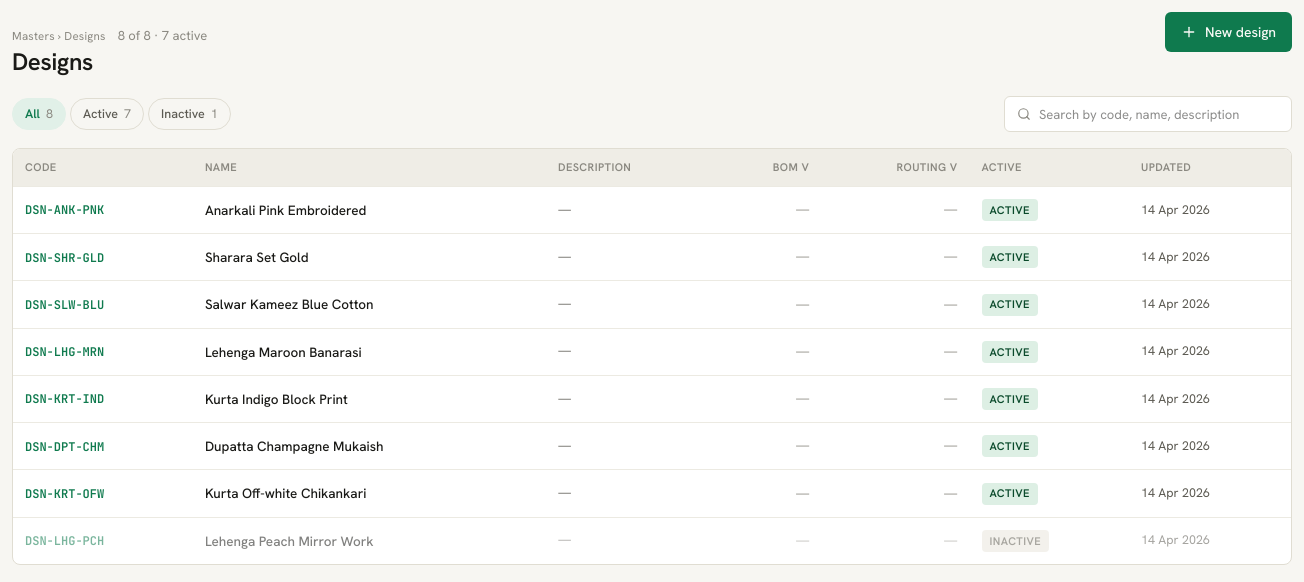
DesignsList (live-mode, TASK-TR-E1) › FILTERED-EMPTY state: search miss shows a distinct empty copy
Expected: the text "Anarkali Pink Embroidered" is shown, x1=193 y1=186 x2=546 y2=234
In the search field named "Search designs": [1159, 114] box x1=1039 y1=104 x2=1279 y2=124, type "kanjeevaram"
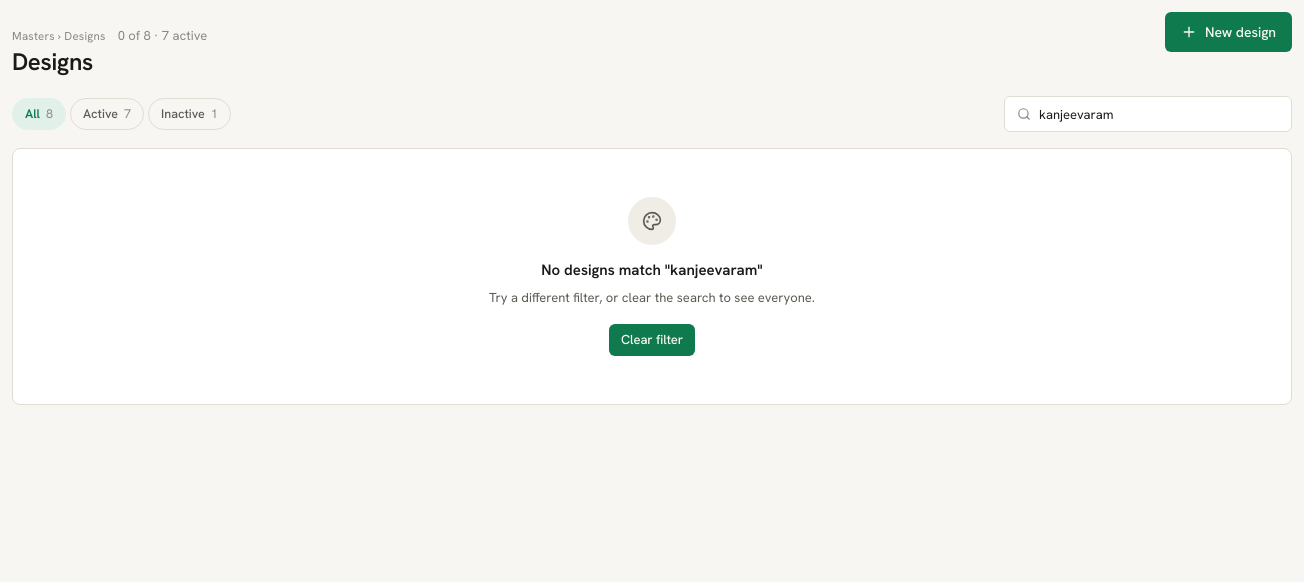
Expected: the heading "No designs match \"kanjeevaram\"" is shown, x1=541 y1=259 x2=763 y2=282
Expected: the button "Clear filter" is shown, x1=609 y1=324 x2=695 y2=356
